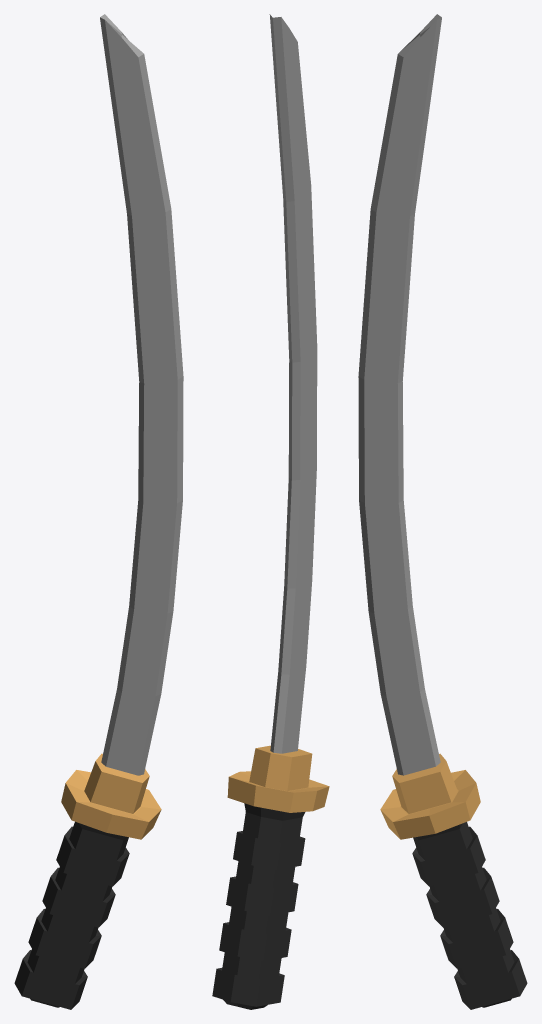
The model's file is Katana.glb.
3 renders of one model, left to right at view 1: azimuth 90°, elevation 25°; view 2: azimuth 150°, elevation 25°; view 3: azimuth 270°, elevation 25°, orthographic.
Parts seen in each view (by area): view 1: Katana; view 2: Katana; view 3: Katana.
Part boxes in pixels (x1,y1,x2,y2): Katana: [14, 14, 183, 1009]; Katana: [212, 14, 329, 1009]; Katana: [358, 14, 527, 1009].
Bounding box in the file's own units: 0.3165 × 3.77 × 0.5865.
